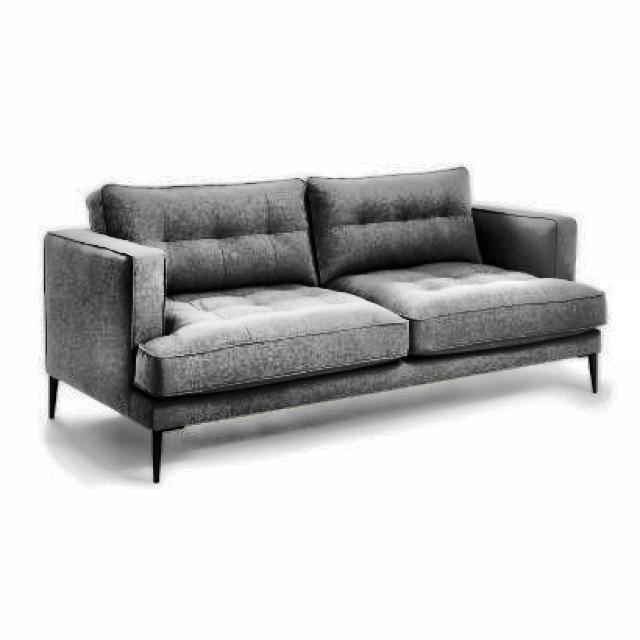sofa: (42, 164, 606, 482)
